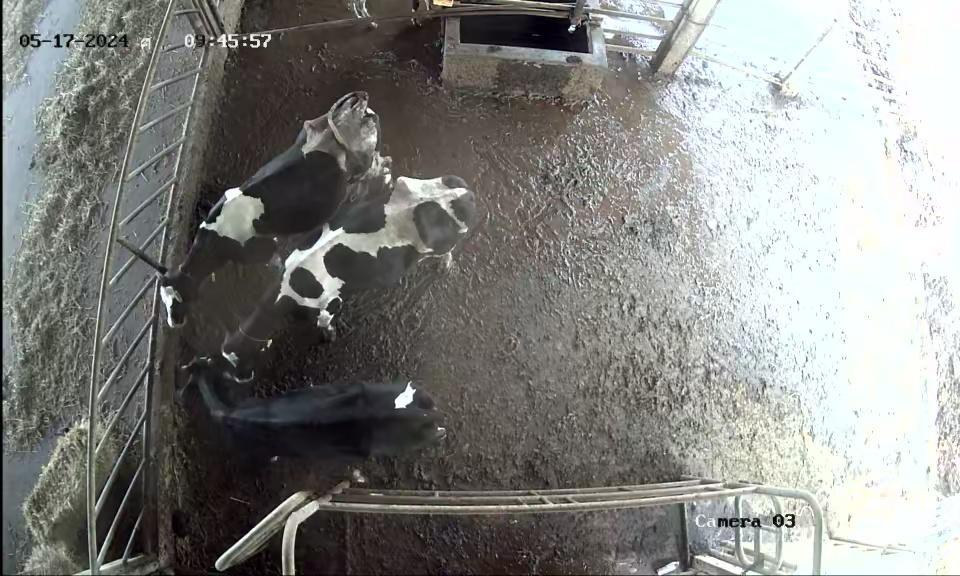stand: (143, 85, 388, 330), (212, 171, 480, 380), (164, 353, 464, 467)
